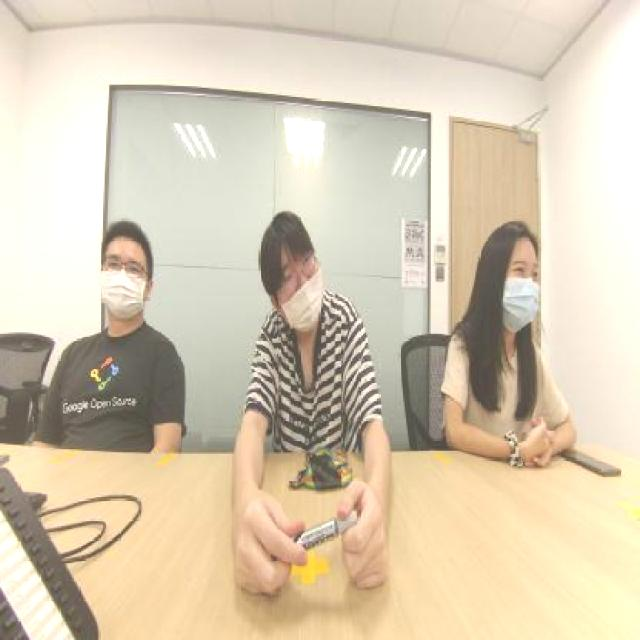Person: (218, 186, 394, 460), (433, 189, 582, 477), (38, 184, 188, 452)
